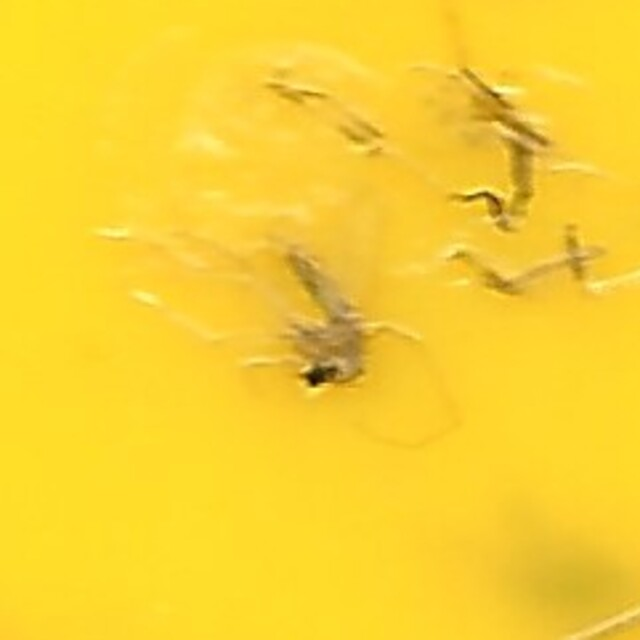Nematocera: (266, 238, 374, 402)
